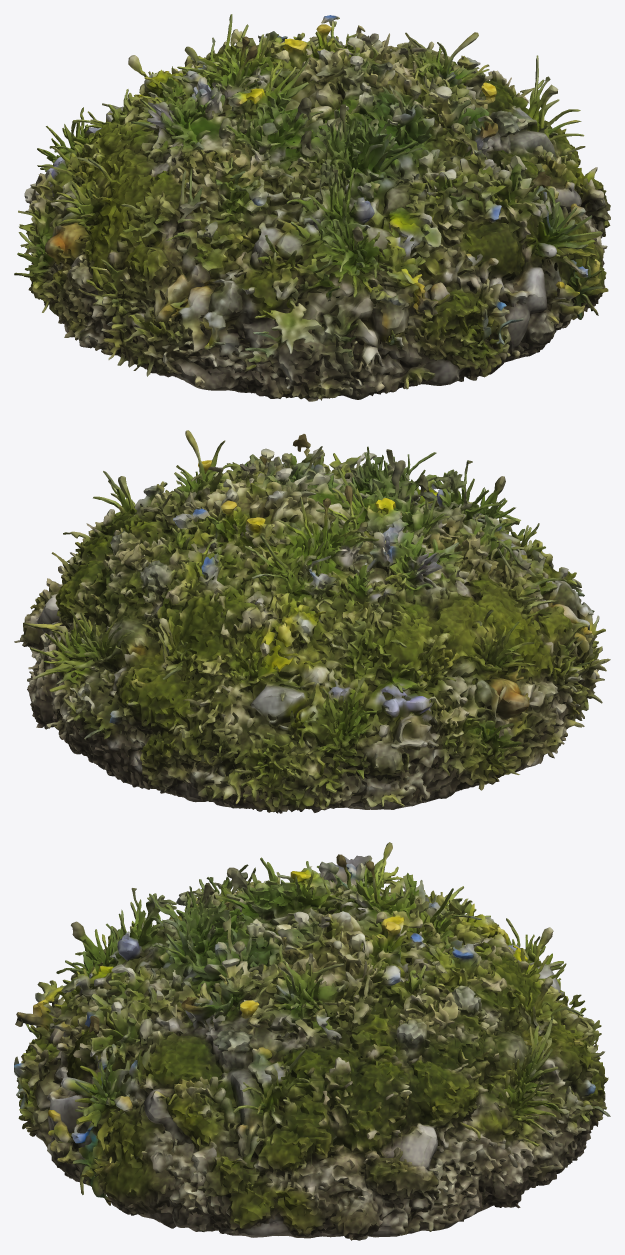
The model's file is alpine-turf-patch-v21.glb.
3 renders of one model, top to bottom at view 1: azimuth 30°, elevation 25°; view 2: azimuth 150°, elevation 25°; view 3: azimuth 270°, elevation 25°, orthographic. The views are drawn at different scales.
Parts seen in each view (by area): view 1: world; view 2: world; view 3: world.
Part boxes in pixels (box(x1,y1,x2,y2)): world: box(14, 14, 610, 401); world: box(14, 430, 610, 813); world: box(14, 842, 610, 1240).
Size of the model in its own units: 0.3 by 0.1458 by 0.2998.
Materials: 1 (1 with a texture image).
